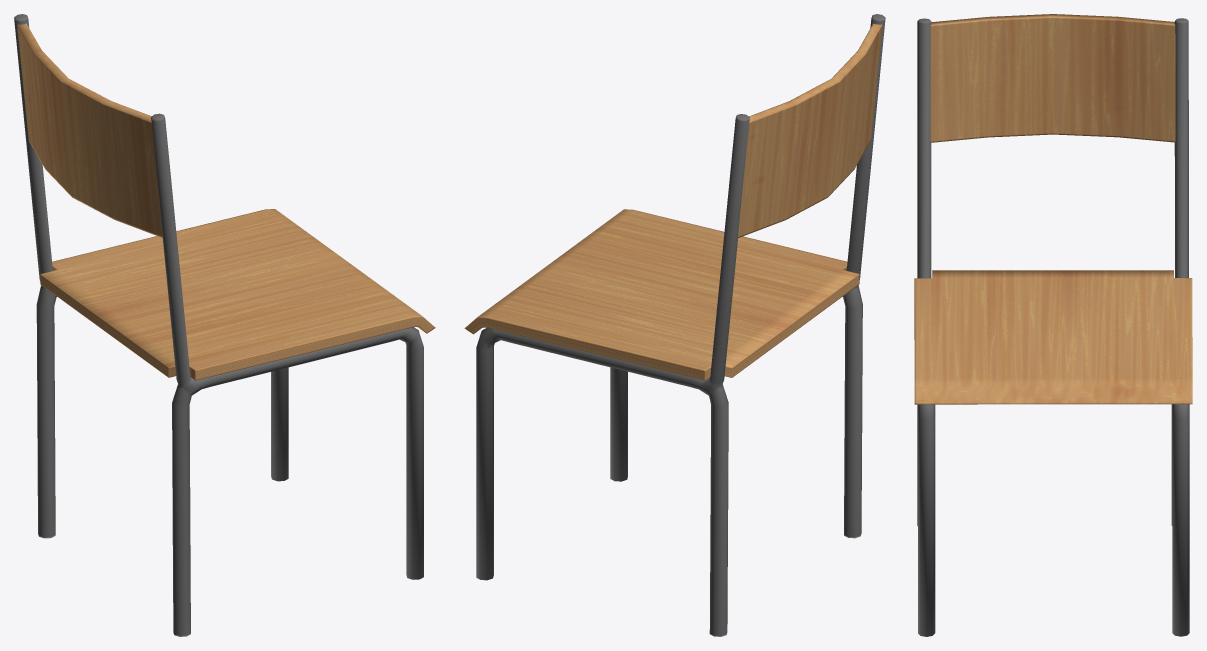
The model's file is chair02.glb.
3 views of the same model, side by side, from view 1: azimuth 30°, elevation 25°; view 2: azimuth 150°, elevation 25°; view 3: azimuth 270°, elevation 25° (orthographic). The views are drawn at different scales.
Visible parts, largest first — view 1: chair_merged; view 2: chair_merged; view 3: chair_merged.
Boxes of the visible parts, x1=… form: chair_merged: x1=14, y1=14, x2=435, y2=636; chair_merged: x1=464, y1=14, x2=885, y2=636; chair_merged: x1=914, y1=14, x2=1192, y2=636.
Bounding box in the file's own units: 0.566 × 0.9387 × 0.479.
2 materials, 1 textured.
